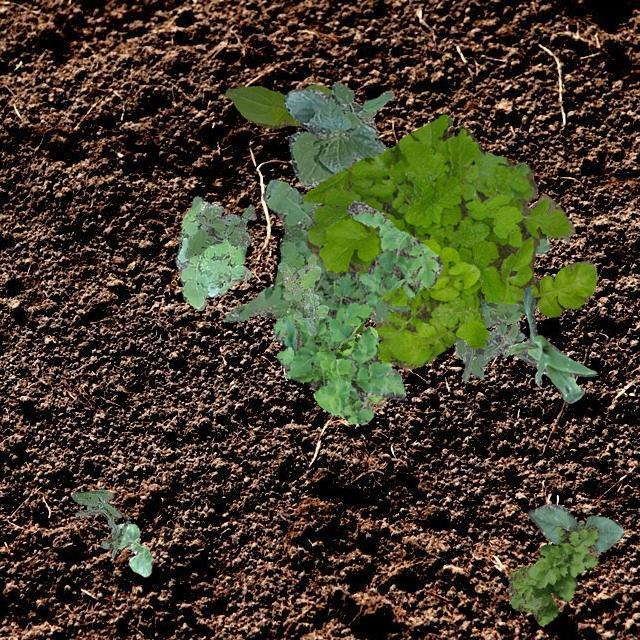crop: (462, 236, 568, 380), (282, 82, 392, 186), (500, 286, 596, 402), (526, 502, 624, 552), (224, 84, 332, 128), (116, 522, 152, 576)
weed: (302, 114, 596, 366), (222, 178, 548, 342), (272, 198, 442, 422), (508, 524, 598, 624), (174, 195, 250, 308), (334, 320, 394, 408), (454, 322, 534, 376), (276, 252, 328, 334), (70, 488, 128, 558), (183, 204, 256, 258)
